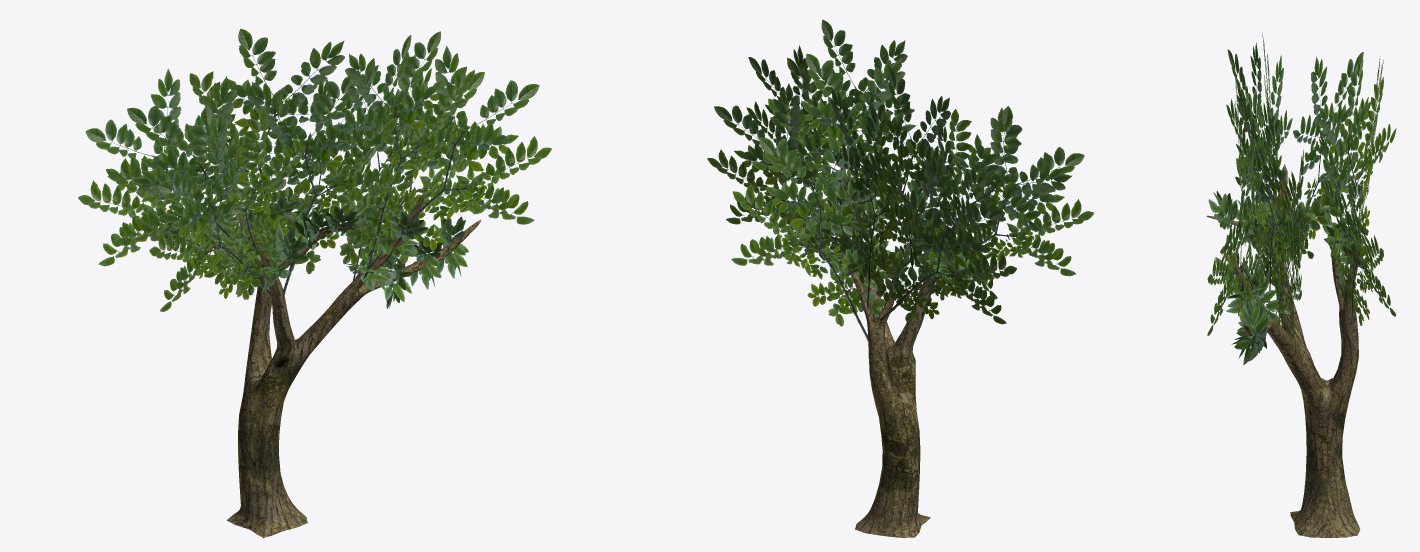
The model's file is tree6.FBX.
3 renders of one model, left to right at view 1: azimuth 30°, elevation 25°; view 2: azimuth 150°, elevation 25°; view 3: azimuth 270°, elevation 25°, orthographic. The views are drawn at different scales.
Parts seen in each view (by area): view 1: Plane2181, tree6uv; view 2: Plane2181, tree6uv; view 3: Plane2181, tree6uv.
Part boxes in pixels (x1,y1,x2,y2): Plane2181: [78, 29, 551, 314]; tree6uv: [150, 193, 480, 537]; Plane2181: [707, 19, 1093, 341]; tree6uv: [780, 171, 975, 537]; Plane2181: [1207, 32, 1396, 364]; tree6uv: [1206, 164, 1360, 537].
Size of the model in its own units: 1411 by 1373 by 547.
